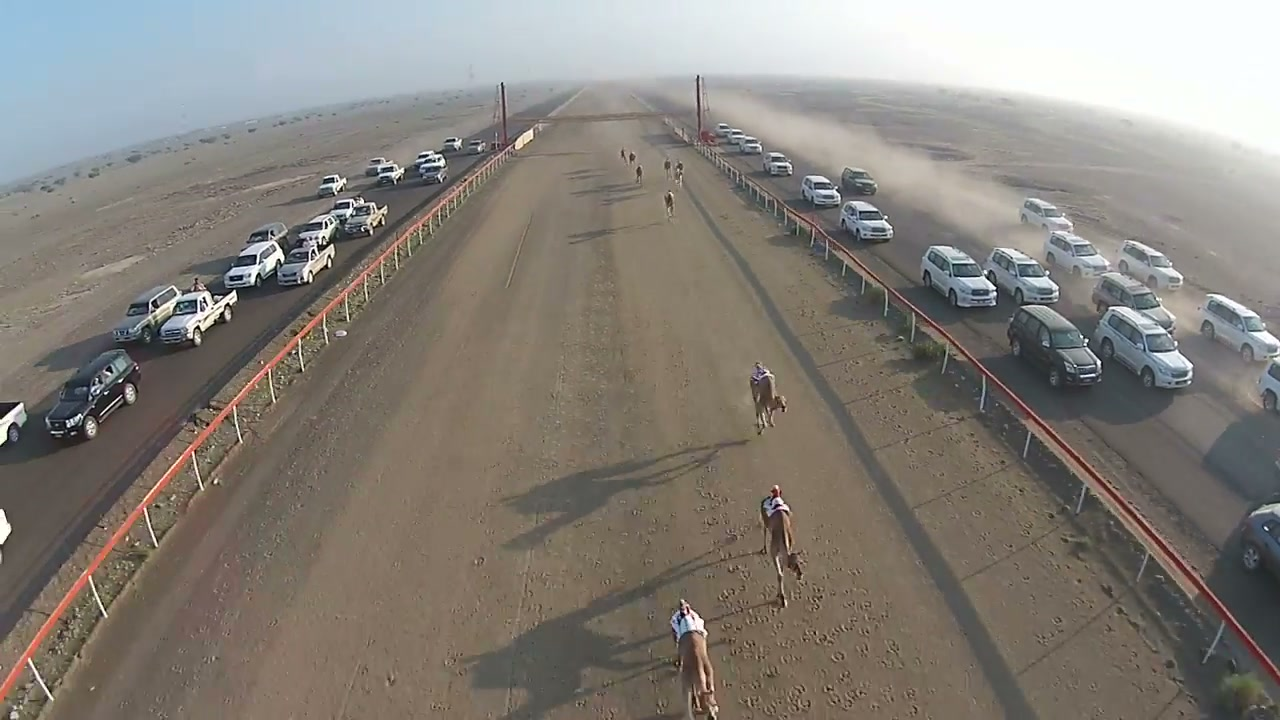animal_footprint: (678, 518, 880, 704)
